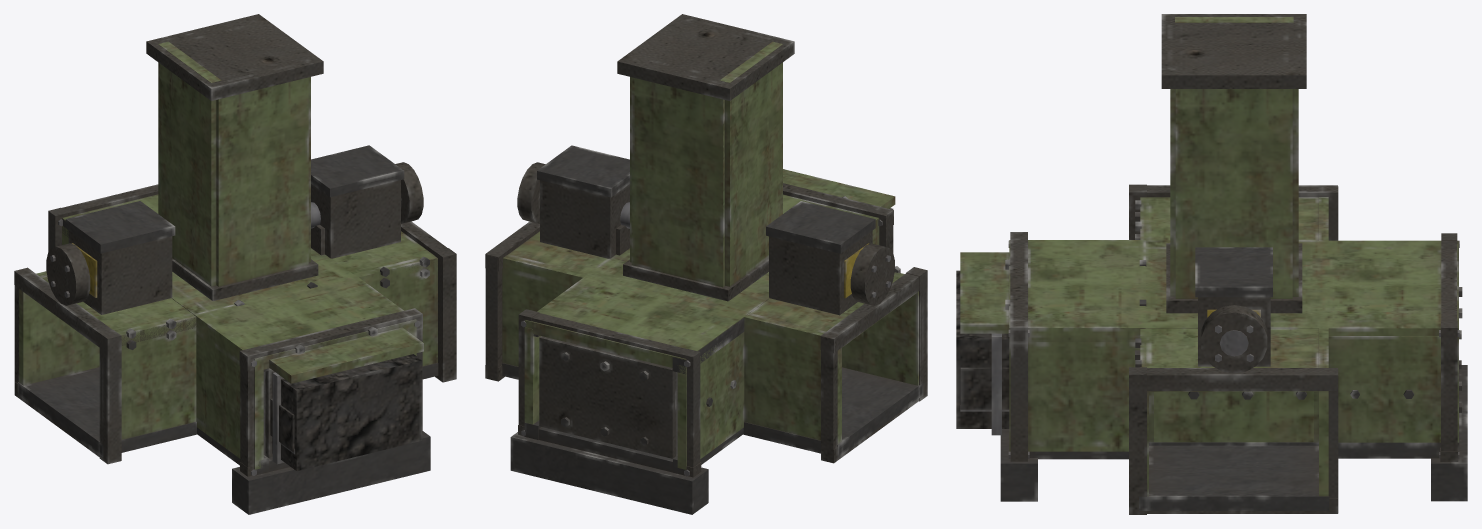
Rendered from feConveyorDuct_HD.fbx.
3 views of the same model, side by side, from view 1: azimuth 30°, elevation 25°; view 2: azimuth 150°, elevation 25°; view 3: azimuth 270°, elevation 25° (orthographic). The views are drawn at different scales.
Parts seen in each view (by area): view 1: FeDuctHatch, FeDuctSide_R, FeDuctRamp, feConveyorDuct_Base, FeDuctBoot, FeDuctSide_L, FeDuctFront, FeSpin_BeltDrive, FeDuctCapF; view 2: feConveyorDuct_Base, FeDuctHatch, FeDuctSide_R, FeDuctCapB, FeDuctSide_L, FeSpin_BeltDrive, FeDuctRamp, FeDuctFront; view 3: FeDuctSide_L, FeDuctHatch, FeDuctRamp, feConveyorDuct_Base, FeDuctWall_L, FeDuctSide_R, FeDuctBoot, FeSpin_BeltDrive, FeDuctFront.
Boxes of the visible parts, <box> form: FeDuctHatch: <box>146,14,323,300</box>; FeDuctSide_R: <box>14,226,197,464</box>; FeDuctRamp: <box>194,275,430,514</box>; feConveyorDuct_Base: <box>48,145,404,402</box>; FeDuctBoot: <box>272,354,422,470</box>; FeDuctSide_L: <box>332,221,456,382</box>; FeDuctFront: <box>196,308,422,476</box>; FeSpin_BeltDrive: <box>46,162,423,305</box>; FeDuctCapF: <box>265,368,274,457</box>; feConveyorDuct_Base: <box>510,145,875,514</box>; FeDuctHatch: <box>617,14,794,301</box>; FeDuctSide_R: <box>677,266,927,469</box>; FeDuctCapB: <box>539,336,676,458</box>; FeDuctSide_L: <box>485,221,608,424</box>; FeSpin_BeltDrive: <box>517,162,894,305</box>; FeDuctRamp: <box>783,169,895,252</box>; FeDuctFront: <box>783,183,893,244</box>; FeDuctSide_L: <box>1129,328,1458,514</box>; FeDuctHatch: <box>1161,14,1306,313</box>; FeDuctRamp: <box>960,240,1145,501</box>; feConveyorDuct_Base: <box>1139,233,1467,501</box>; FeDuctWall_L: <box>1154,389,1414,442</box>; FeDuctSide_R: <box>1129,184,1458,329</box>; FeDuctBoot: <box>956,270,1009,435</box>; FeSpin_BeltDrive: <box>1201,305,1267,373</box>; FeDuctFront: <box>1005,232,1029,461</box>.
Bounding box in the file's own units: 1.01 × 1 × 1.14.
Materials: 1 (1 with a texture image).
